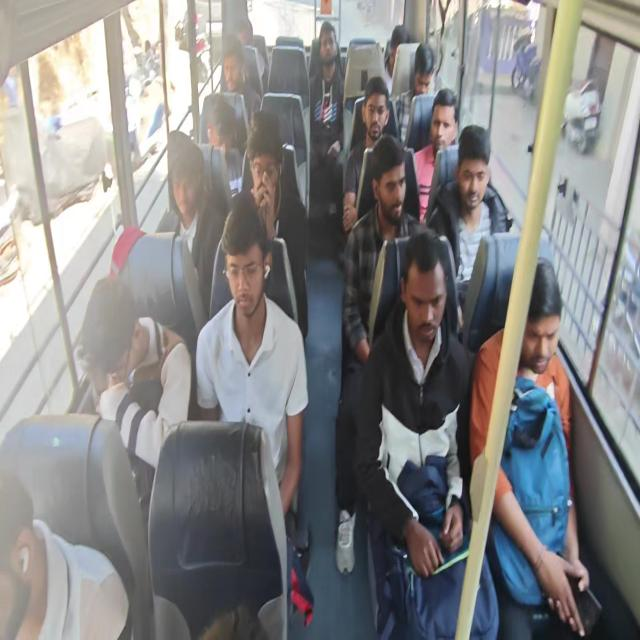person: (74, 15, 590, 637), (353, 230, 500, 638), (469, 256, 590, 638), (334, 133, 429, 574), (195, 192, 309, 539), (74, 274, 192, 510), (0, 472, 130, 638), (230, 110, 308, 340), (425, 124, 510, 330), (110, 226, 206, 340), (163, 142, 223, 320), (306, 21, 345, 252), (342, 75, 391, 235), (412, 88, 460, 222), (392, 43, 435, 144), (205, 98, 243, 196), (220, 37, 261, 124), (383, 24, 412, 94)
